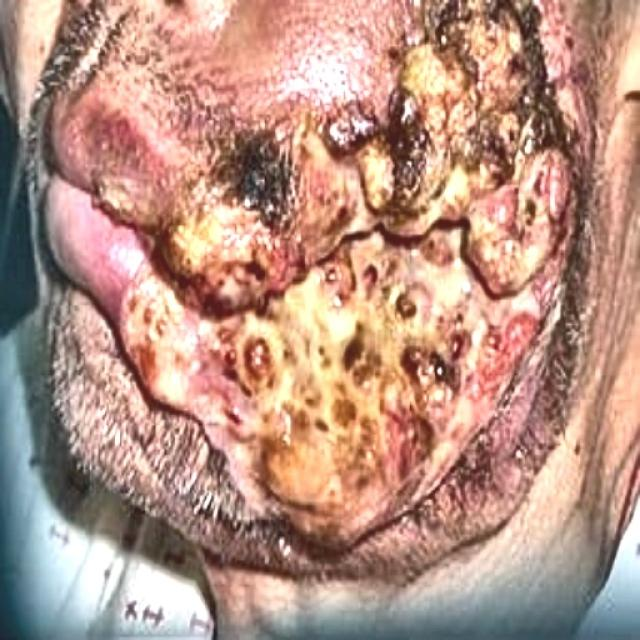cancer-detection: (39, 0, 588, 549)
processing_area: (11, 0, 608, 572)
